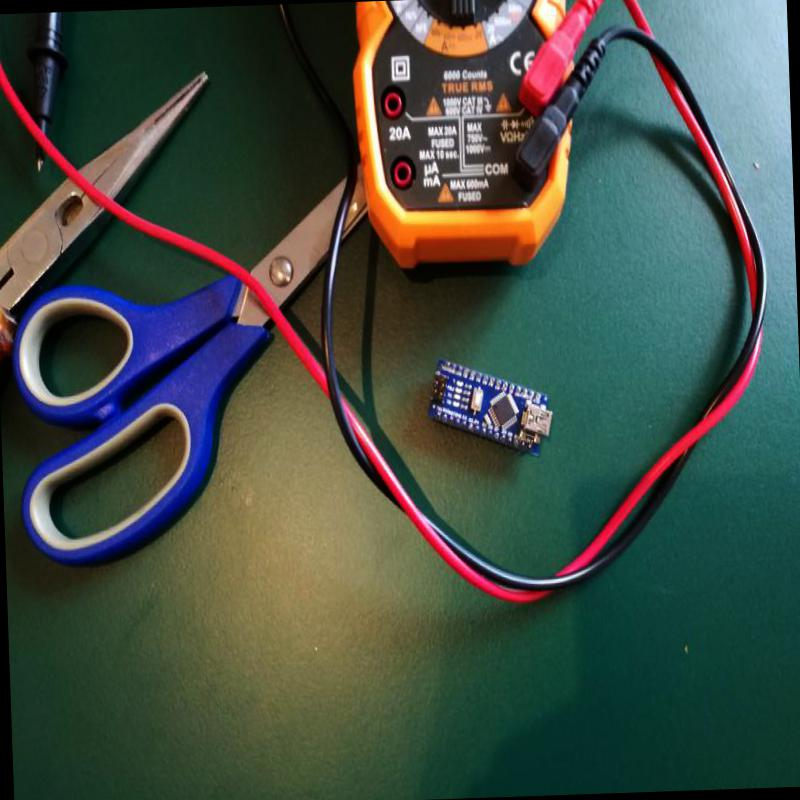Arduino_Nano: (424, 349, 559, 468)
